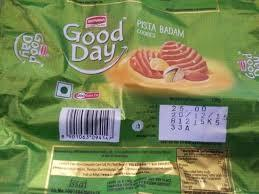VEG: (56, 80, 74, 100)
